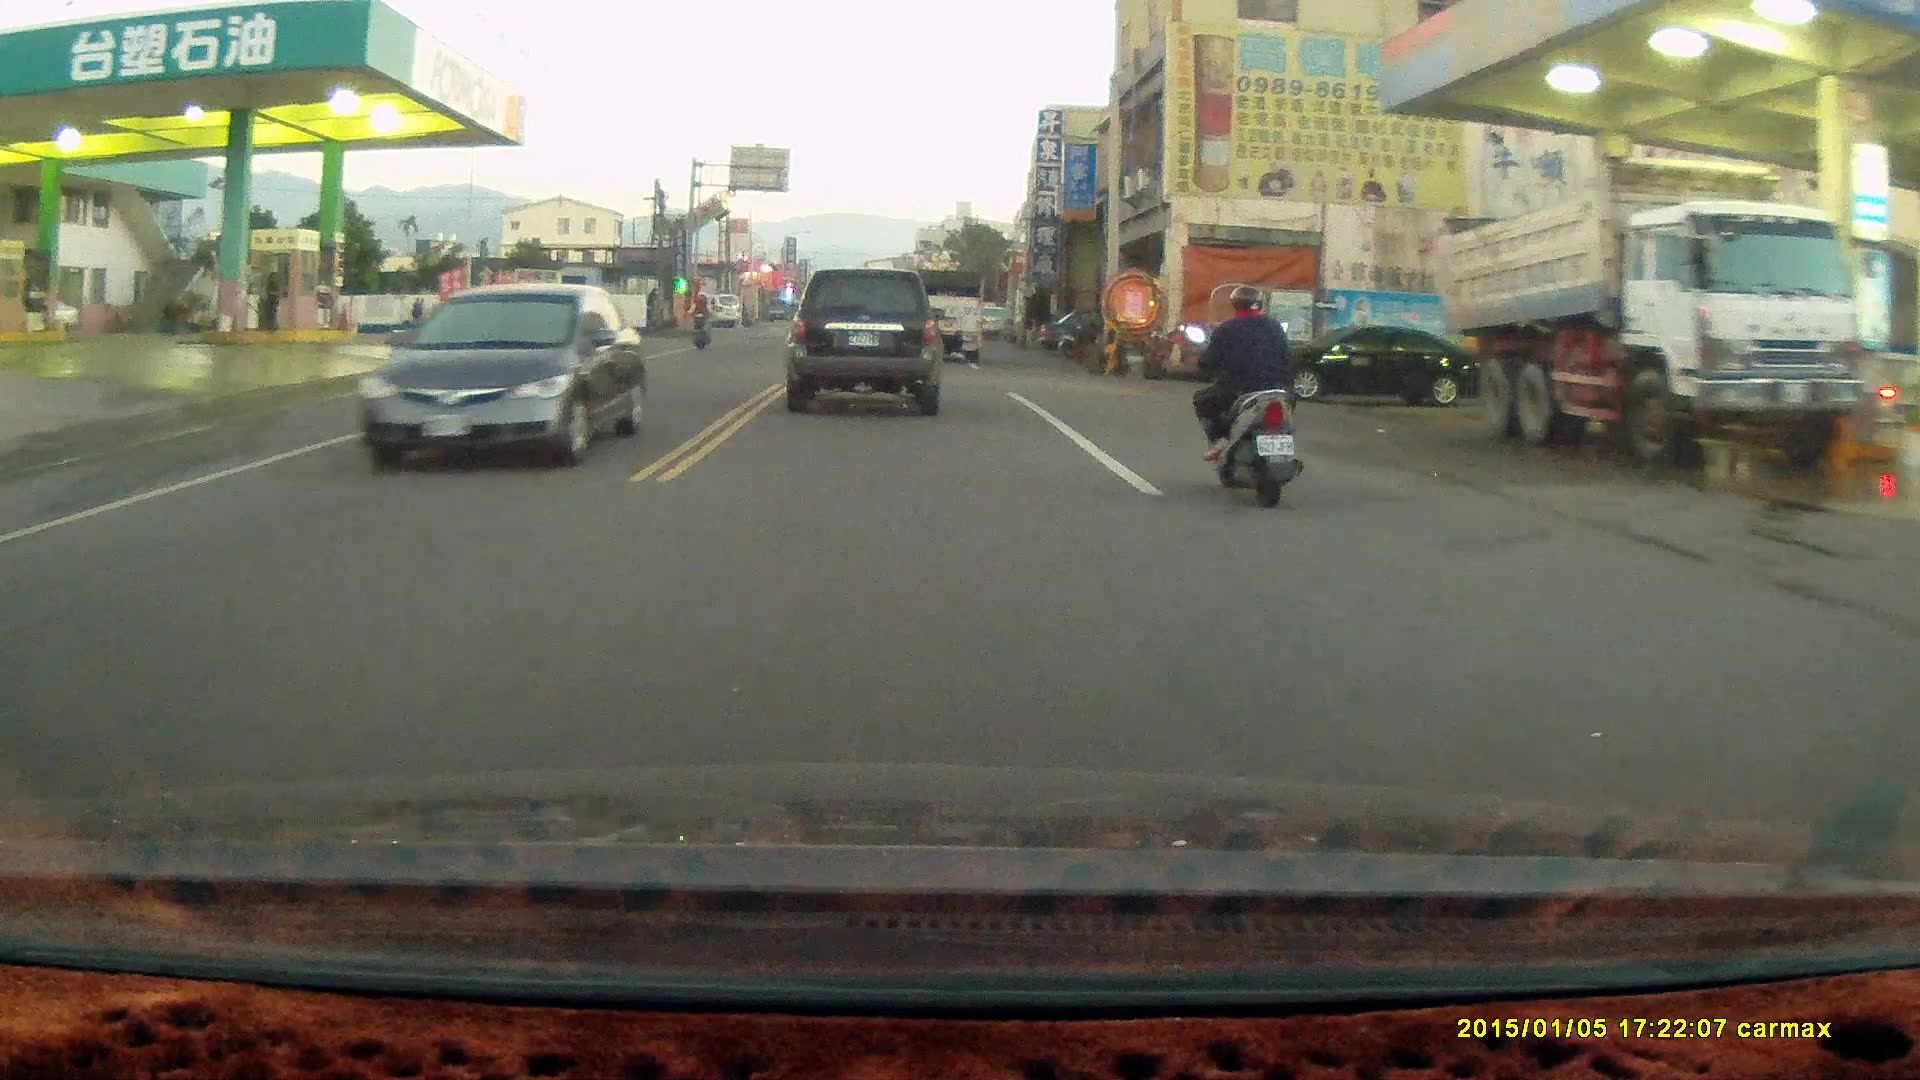rider: (1183, 279, 1302, 509), (685, 286, 714, 348)
vehicle: (1435, 154, 1882, 465), (362, 283, 646, 478), (786, 264, 945, 416), (1282, 324, 1472, 408), (907, 267, 987, 362)
